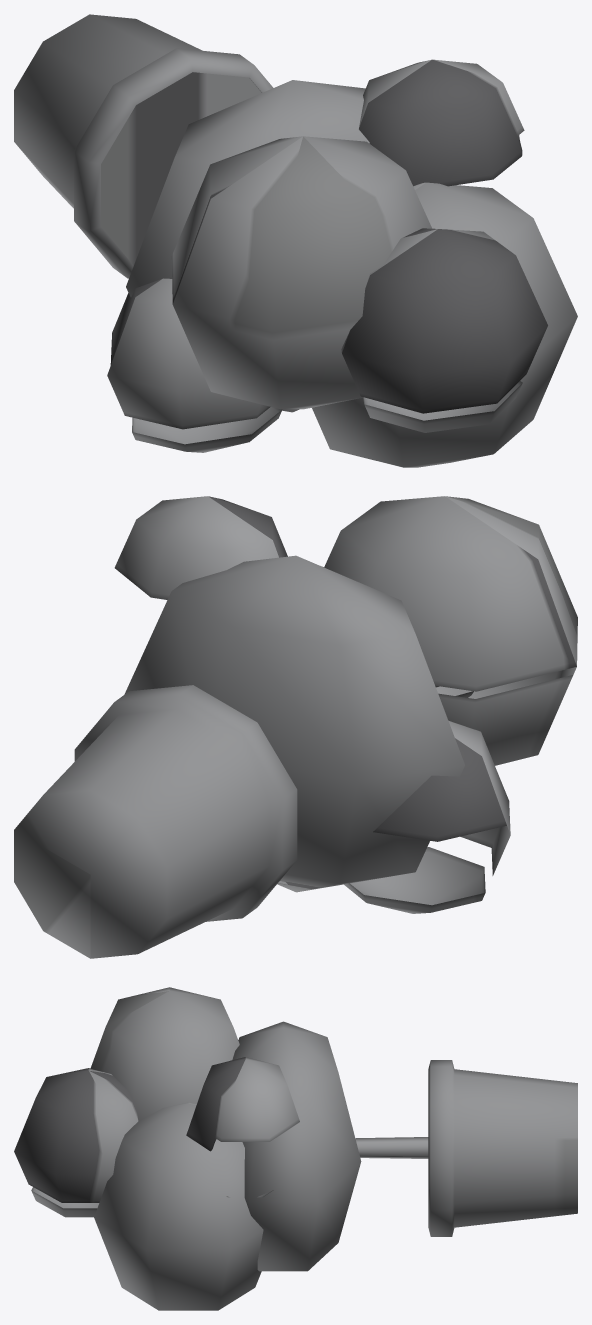
The picture shows the model from 3 angles, top to bottom: view 1: azimuth 30°, elevation 25°; view 2: azimuth 150°, elevation 25°; view 3: azimuth 270°, elevation 25°; orthographic projection. The views are drawn at different scales.
Bounding box in the file's own units: 0.6942 × 0.63 × 1.19.
